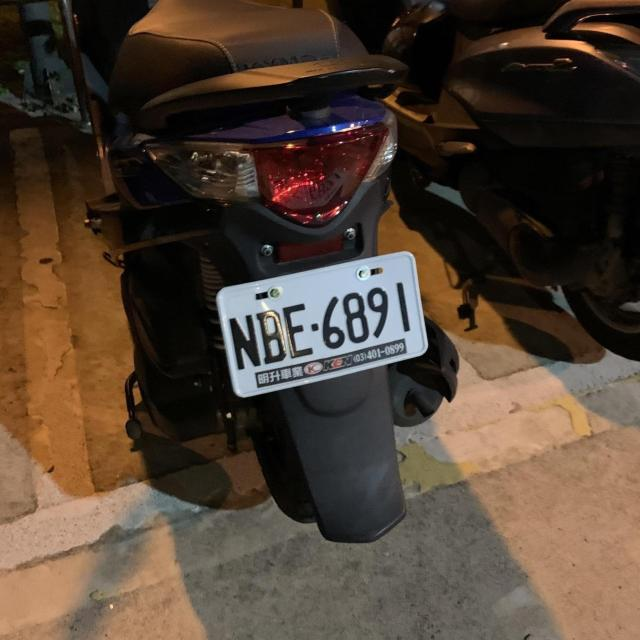W: (209, 246, 434, 400)
